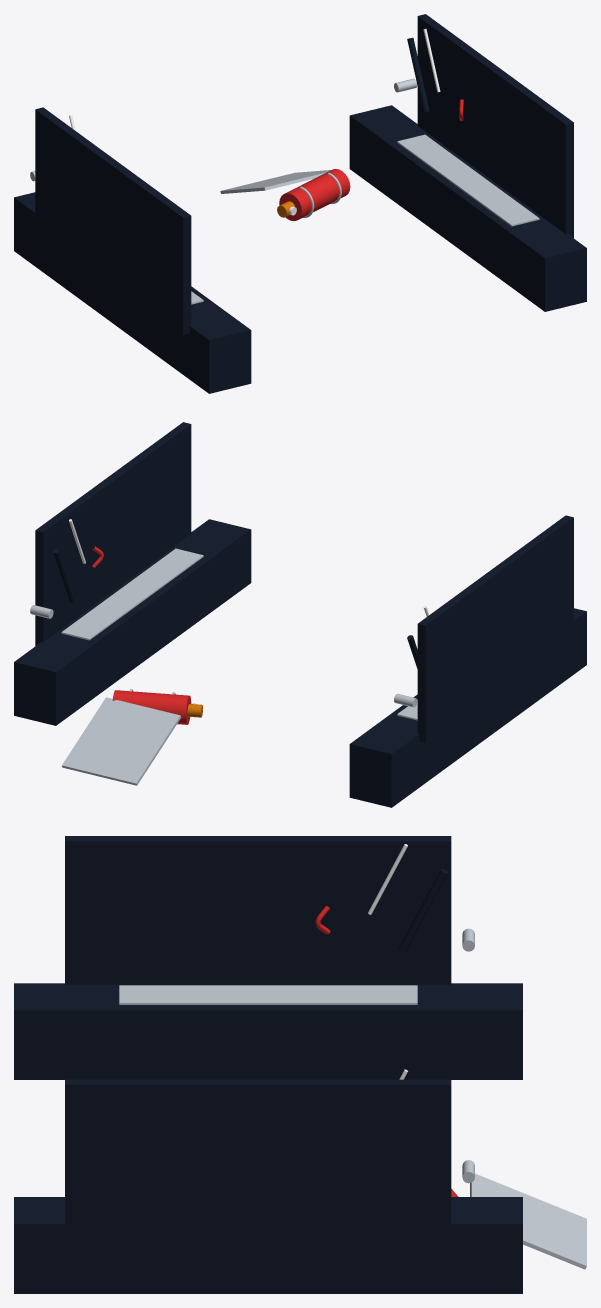
The model's file is chassis_door_sills.glb.
The picture shows the model from 3 angles, top to bottom: view 1: azimuth 30°, elevation 25°; view 2: azimuth 150°, elevation 25°; view 3: azimuth 270°, elevation 25°; orthographic projection. The views are drawn at different scales.
Visible parts, largest first — view 1: Chassis_Sills_Doors_Extinguisher_Assembly, FIA_Fire_Extinguisher_System; view 2: Chassis_Sills_Doors_Extinguisher_Assembly, FIA_Fire_Extinguisher_System; view 3: Chassis_Sills_Doors_Extinguisher_Assembly.
Boxes of the visible parts, x1,y1,x2,y2 form: Chassis_Sills_Doors_Extinguisher_Assembly: [14, 14, 586, 393]; FIA_Fire_Extinguisher_System: [277, 169, 350, 220]; Chassis_Sills_Doors_Extinguisher_Assembly: [14, 422, 586, 807]; FIA_Fire_Extinguisher_System: [112, 689, 202, 724]; Chassis_Sills_Doors_Extinguisher_Assembly: [14, 836, 586, 1293].
Size of the model in its own units: 1.68 by 0.7495 by 1.63.
